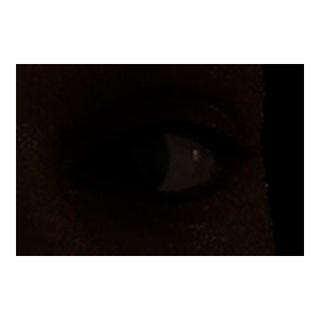pupil: (104, 138, 146, 179)
